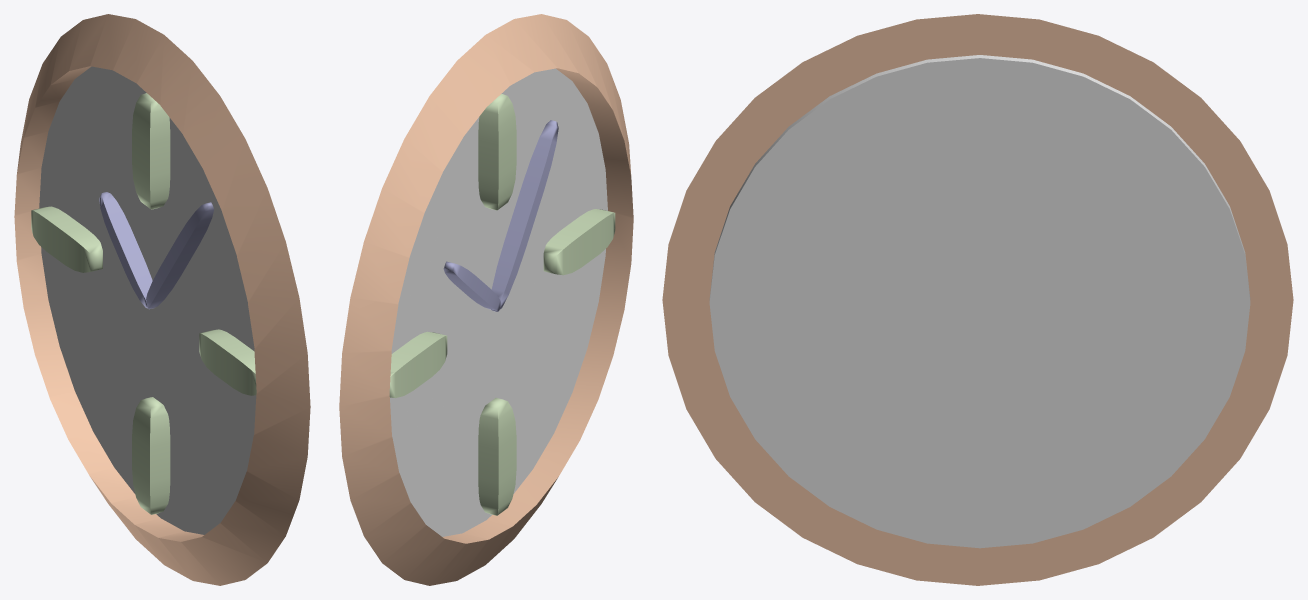
Rendered from Clock.fbx.
The picture shows the model from 3 angles, left to right: view 1: azimuth 30°, elevation 25°; view 2: azimuth 150°, elevation 25°; view 3: azimuth 270°, elevation 25°; orthographic projection. The views are drawn at different scales.
Parts seen in each view (by area): view 1: Circle, Cylinder, Cube.001, Cube, Cube.003, Cube.002, Cube.004, Cube.005; view 2: Circle, Cylinder, Cube.001, Cube.004, Cube, Cube.002, Cube.003, Cube.005; view 3: Circle, Cylinder.
Part boxes in pixels (left/top/right/bottom): Circle: left=39, top=66, right=256, bottom=534; Cylinder: left=14, top=14, right=310, bottom=585; Cube.001: left=132, top=397, right=170, bottom=514; Cube: left=132, top=93, right=170, bottom=209; Cube.003: left=31, top=206, right=102, bottom=272; Cube.002: left=199, top=329, right=256, bottom=395; Cube.004: left=146, top=202, right=214, bottom=308; Cube.005: left=99, top=192, right=154, bottom=309; Circle: left=390, top=68, right=607, bottom=536; Cylinder: left=339, top=14, right=633, bottom=585; Cube.001: left=478, top=398, right=516, bottom=515; Cube.004: left=491, top=120, right=558, bottom=311; Cube: left=478, top=94, right=516, bottom=210; Cube.002: left=543, top=209, right=615, bottom=275; Cube.003: left=389, top=331, right=447, bottom=398; Cube.005: left=443, top=261, right=501, bottom=311; Circle: left=709, top=55, right=1250, bottom=548; Cylinder: left=662, top=14, right=1293, bottom=585.
Size of the model in its own units: 34.84 by 511 by 511.
